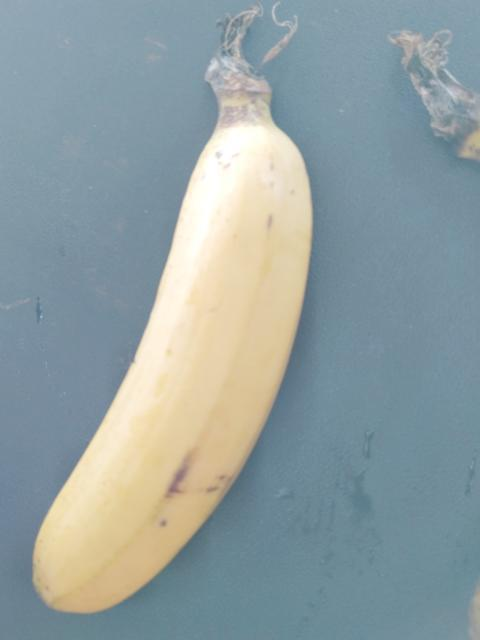freshripe: (10, 118, 338, 622)
